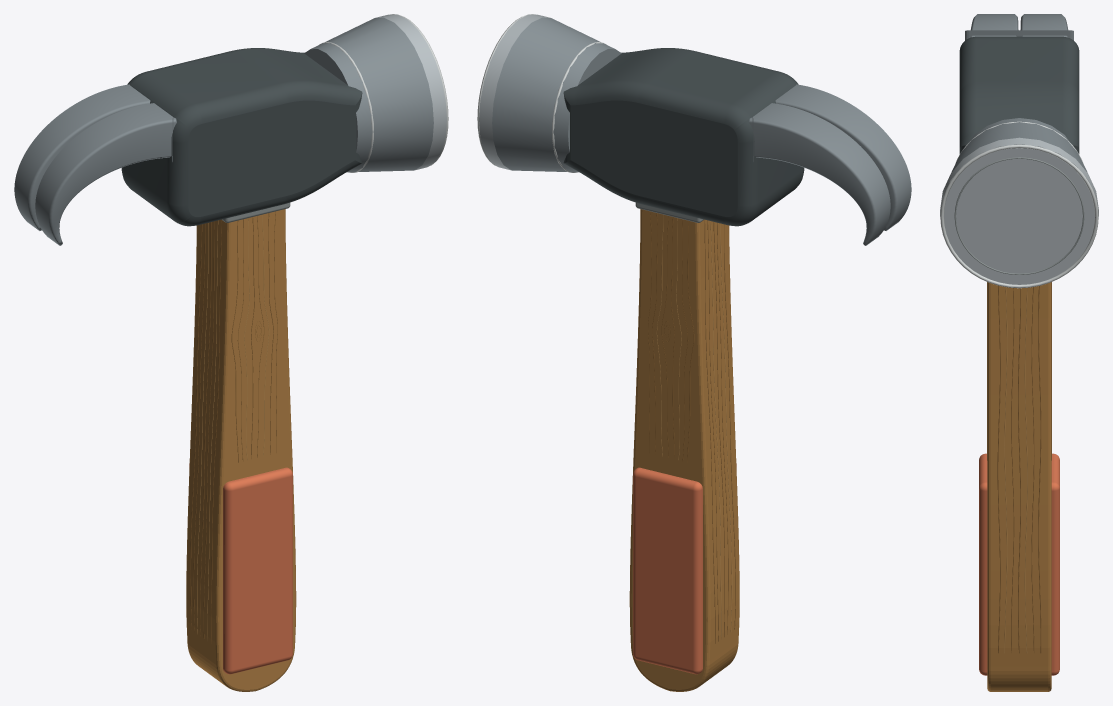
File: workshop-hammer-claw-grain.glb
3 renders of one model, left to right at view 1: azimuth 30°, elevation 25°; view 2: azimuth 150°, elevation 25°; view 3: azimuth 270°, elevation 25°, orthographic.
Parts seen in each view (by area): view 1: Wood_Handle, steelInset, Grip_Front, steel, Claw Back, Claw Front, steelEdge; view 2: Wood_Handle, steelInset, Grip_Back, steel, Claw Front, Claw Back, steelEdge; view 3: Wood_Handle, steelEdge, steelInset, steel, Grip_Front, Grip_Back, Polished_Striking_Rim, Claw Front, Claw Back, Machined_Face_Groove, Side Wood Right 1, Side Wood Right 7 (+5 smaller).
Boxes of the visible parts, bbox=[...] form: Wood_Handle: bbox=[186, 209, 296, 691]; steelInset: bbox=[121, 48, 362, 226]; Grip_Front: bbox=[223, 467, 292, 674]; steel: bbox=[172, 17, 433, 172]; Claw Back: bbox=[35, 103, 176, 245]; Claw Front: bbox=[14, 84, 150, 230]; steelEdge: bbox=[375, 14, 446, 170]; Wood_Handle: bbox=[629, 209, 739, 691]; steelInset: bbox=[563, 48, 804, 226]; Grip_Back: bbox=[633, 467, 702, 674]; steel: bbox=[492, 17, 753, 172]; Claw Front: bbox=[749, 103, 890, 245]; Claw Back: bbox=[775, 84, 911, 230]; steelEdge: bbox=[479, 14, 550, 170]; Wood_Handle: bbox=[987, 282, 1051, 691]; steelEdge: bbox=[940, 137, 1098, 284]; steelInset: bbox=[959, 36, 1079, 153]; steel: bbox=[951, 30, 1087, 172]; Grip_Front: bbox=[979, 453, 987, 675]; Grip_Back: bbox=[1051, 453, 1059, 675]; Polished_Striking_Rim: bbox=[940, 144, 1098, 288]; Claw Front: bbox=[1020, 14, 1068, 37]; Claw Back: bbox=[970, 14, 1018, 37]; Machined_Face_Groove: bbox=[954, 157, 1084, 274]; Side Wood Right 1: bbox=[1038, 286, 1041, 653]; Side Wood Right 7: bbox=[997, 285, 1000, 653].
Bounding box in the file's own units: 0.2603 × 0.408 × 0.094.
